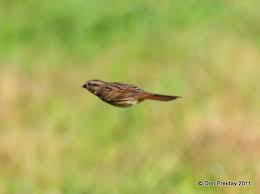hsparrow: (70, 77, 186, 114)
